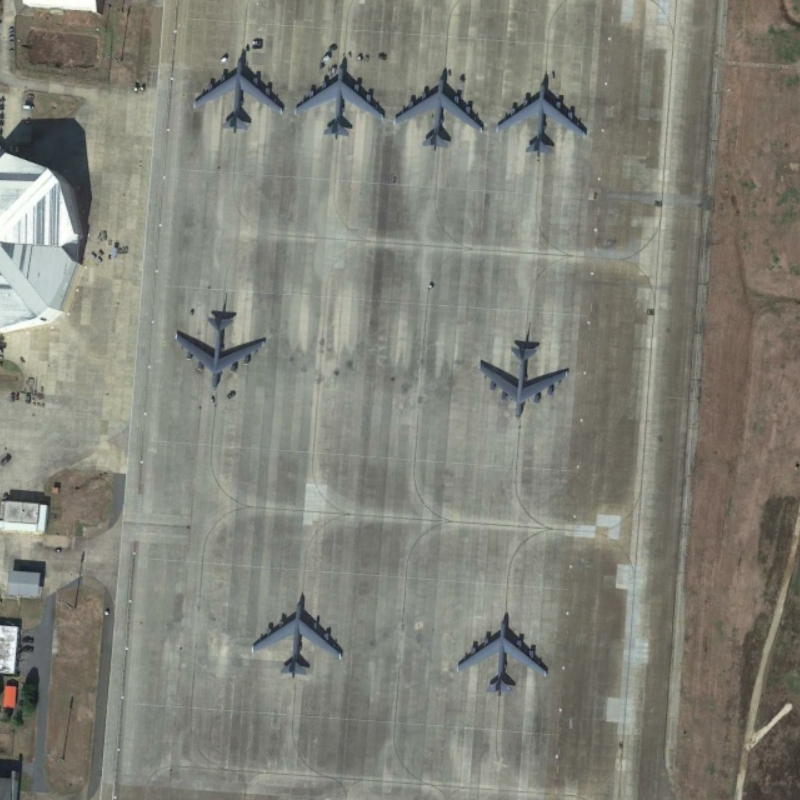A8: (492, 71, 593, 162), (171, 308, 272, 393), (191, 49, 287, 138), (470, 337, 570, 421), (249, 590, 344, 678), (294, 53, 389, 139), (453, 613, 550, 696), (391, 67, 489, 149)
